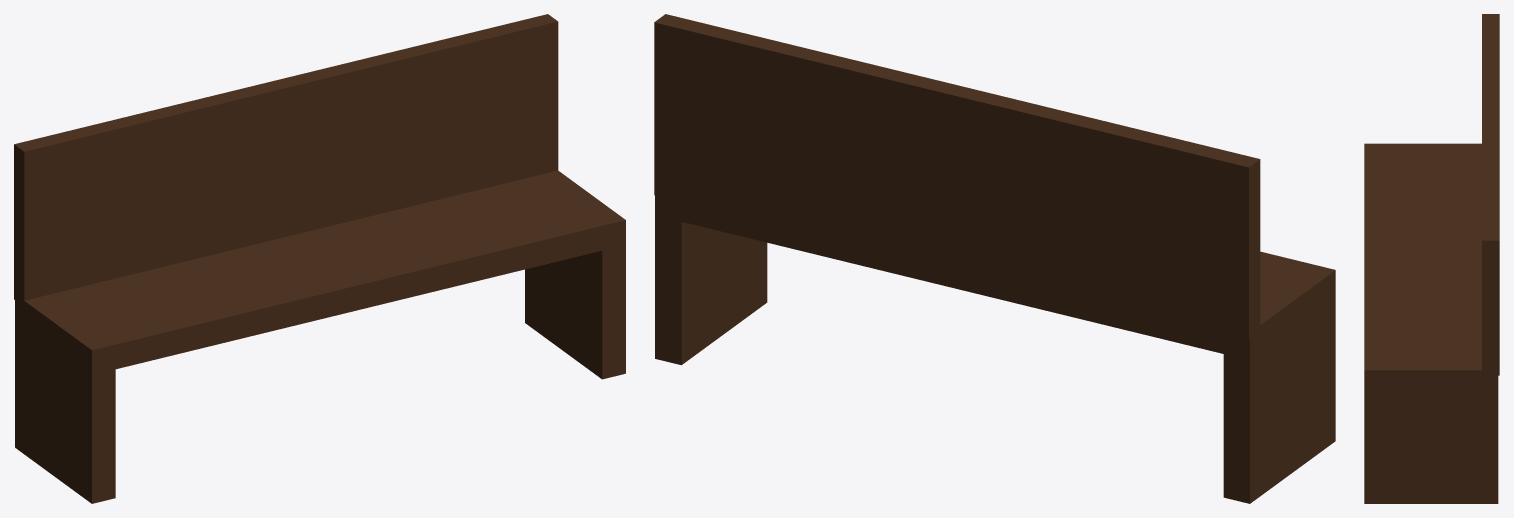
Rendered from pew.341ebe3e.glb.
3 renders of one model, left to right at view 1: azimuth 30°, elevation 25°; view 2: azimuth 150°, elevation 25°; view 3: azimuth 270°, elevation 25°, orthographic. The views are drawn at different scales.
Parts seen in each view (by area): view 1: body; view 2: body; view 3: body.
Boxes of the visible parts, x1,y1,x2,y2 form: body: (14,14,625,503); body: (654,14,1335,503); body: (1364,14,1499,503).
Bounding box in the file's own units: 1.8 × 0.975 × 0.455.
